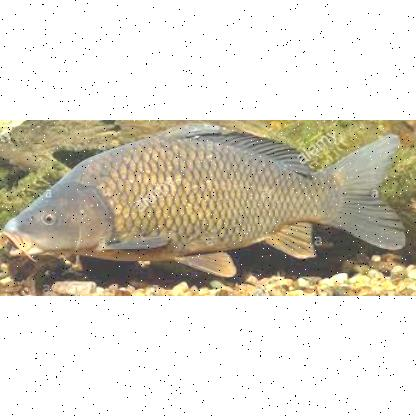ikan-mas: (2, 122, 402, 276)
